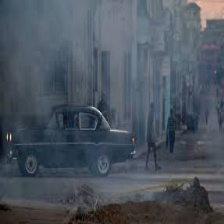smoke: (1, 5, 62, 121), (74, 167, 170, 200)
